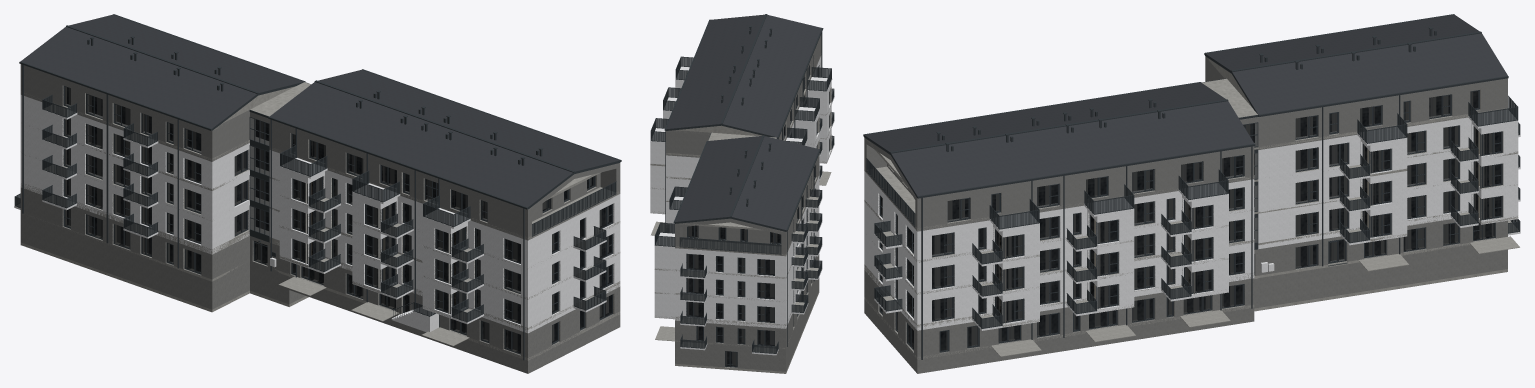
The picture shows the model from 3 angles, left to right: view 1: azimuth 30°, elevation 25°; view 2: azimuth 150°, elevation 25°; view 3: azimuth 270°, elevation 25°; orthographic projection. The views are drawn at different scales.
Parts seen in each view (by area): view 1: F_strecha, F_1NP, F_5NP_blok_omitka_seda, F_2NP_blok_omitka_bila, F_3NP_blok_omitka_bila, F_4NP_blok_omitka_bila, F_1PP, F_strecha_strecha_antracit, F_4NP_interier_interier, F_5NP_zabradli_zabradli_vypln, F_2NP_interier_interier, F_4NP_okna_sklo (+45 smaller); view 2: F_strecha, F_5NP_zabradli_zabradli_vypln, F_5NP_zabradli_antracit, F_4NP_blok_omitka_bila, F_1PP, F_3NP_blok_omitka_bila, F_2NP_blok_omitka_bila, F_5NP_blok_omitka_seda, F_strecha_strecha_antracit, F_4NP_arkyr_omitka_bila, F_1NP, F_5NP_terasa_deska (+47 smaller); view 3: F_strecha, F_1NP, F_5NP_blok_omitka_seda, F_2NP_blok_omitka_bila, F_4NP_blok_omitka_bila, F_3NP_blok_omitka_bila, F_1PP, F_4NP_okna_sklo, F_3NP_okna_sklo, F_2NP_okna_sklo, F_2NP_interier_interier, F_4NP_interier_interier (+43 smaller).
Boxes of the visible parts, x1,y1,x2,y2 form: F_strecha: [21, 14, 619, 207]; F_1NP: [20, 187, 620, 373]; F_5NP_blok_omitka_seda: [20, 64, 527, 237]; F_2NP_blok_omitka_bila: [20, 152, 620, 327]; F_3NP_blok_omitka_bila: [20, 122, 620, 297]; F_4NP_blok_omitka_bila: [20, 95, 620, 267]; F_1PP: [20, 212, 305, 309]; F_strecha_strecha_antracit: [19, 14, 621, 209]; F_4NP_interier_interier: [65, 118, 611, 262]; F_5NP_zabradli_zabradli_vypln: [42, 95, 616, 235]; F_2NP_interier_interier: [65, 179, 611, 323]; F_4NP_okna_sklo: [65, 118, 611, 262]; F_strecha: [666, 14, 821, 229]; F_5NP_zabradli_zabradli_vypln: [650, 57, 831, 253]; F_5NP_zabradli_antracit: [650, 56, 831, 254]; F_4NP_blok_omitka_bila: [666, 55, 821, 277]; F_1PP: [675, 278, 819, 371]; F_3NP_blok_omitka_bila: [666, 176, 819, 300]; F_2NP_blok_omitka_bila: [666, 200, 819, 324]; F_5NP_blok_omitka_seda: [666, 34, 821, 253]; F_strecha_strecha_antracit: [664, 14, 823, 231]; F_4NP_arkyr_omitka_bila: [650, 81, 831, 269]; F_1NP: [666, 228, 819, 347]; F_5NP_terasa_deska: [650, 66, 832, 248]; F_strecha: [864, 15, 1507, 196]; F_1NP: [864, 219, 1507, 373]; F_5NP_blok_omitka_seda: [917, 56, 1507, 227]; F_2NP_blok_omitka_bila: [864, 178, 1471, 324]; F_4NP_blok_omitka_bila: [864, 117, 1471, 260]; F_3NP_blok_omitka_bila: [864, 146, 1471, 292]; F_1PP: [1254, 243, 1507, 308]; F_4NP_okna_sklo: [880, 125, 1500, 257]; F_3NP_okna_sklo: [880, 159, 1500, 290]; F_2NP_okna_sklo: [880, 191, 1500, 322]; F_2NP_interier_interier: [881, 191, 1500, 321]; F_4NP_interier_interier: [881, 125, 1500, 257].
Bounding box in the file's own units: 39.95 × 21.68 × 60.05.
Materials: 13 (9 with a texture image).
